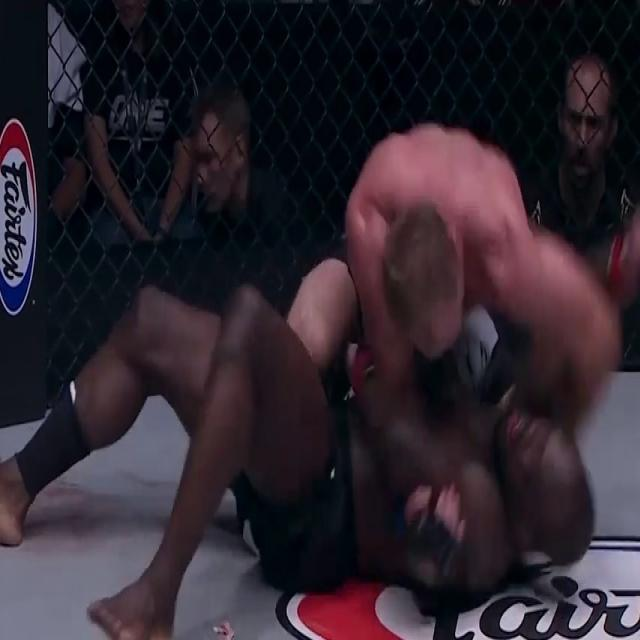fight: (7, 97, 637, 639)
